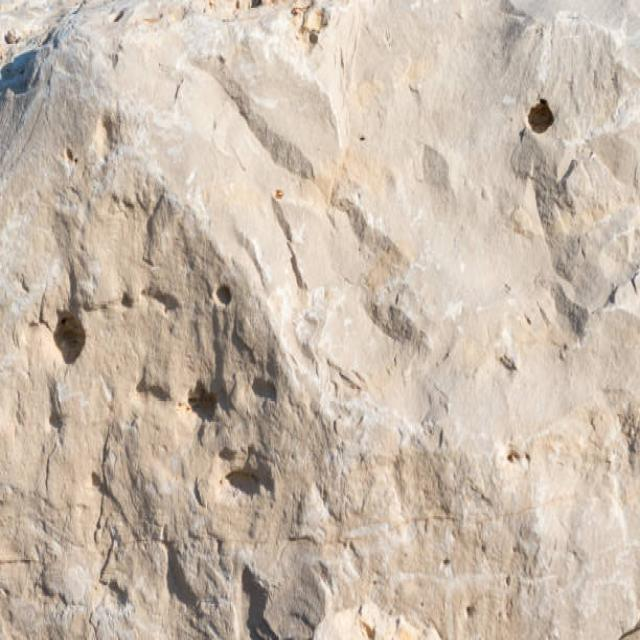Sedimentary: (1, 3, 638, 637)
